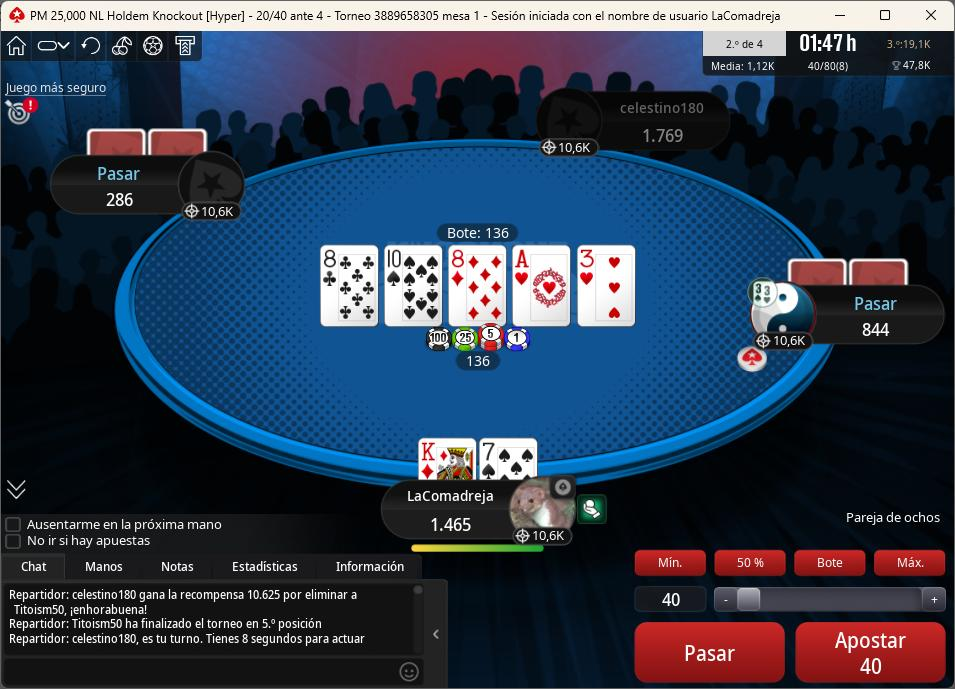ButtonCall: (620, 615, 782, 686)
ButtonMaxRaise: (872, 546, 948, 582)
ButtonMinRaise: (634, 549, 712, 581)
ButtonPotRaise: (789, 545, 869, 580)
ButtonRaise: (793, 618, 948, 684)
Dealer: (731, 342, 773, 374)
HiddenCards: (84, 133, 220, 161), (784, 259, 912, 287)
Player: (746, 283, 950, 351), (48, 151, 249, 215), (546, 96, 736, 160)
PlayerChips: (633, 125, 692, 142), (856, 322, 901, 342), (97, 193, 140, 210)
Pot: (434, 225, 523, 244)
PrincipalCards: (411, 439, 543, 485)
PrincipalCards1: (418, 437, 477, 480)
PrincipalCards2: (480, 439, 538, 480)
PrincipalPlayer: (381, 477, 586, 552)
PrincipalPlayerChips: (422, 518, 485, 538)
ShowedCards: (318, 241, 638, 329)
ShowedCards1: (318, 243, 379, 326)
ShowedCards2: (385, 243, 443, 330)
ShowedCards3: (448, 246, 509, 328)
ShowedCards4: (512, 244, 572, 326)
ShowedCards5: (577, 244, 639, 326)
SmallBigBlind: (245, 5, 333, 27)
TablePot: (418, 325, 548, 382)
